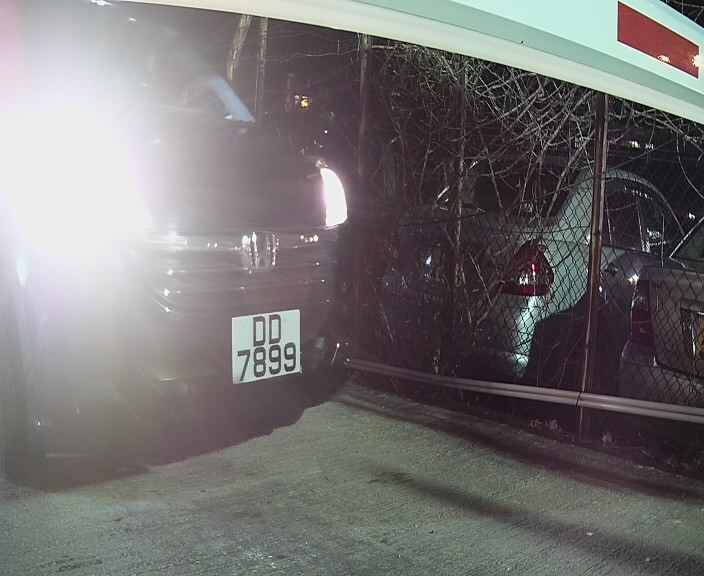License Plate: (220, 300, 309, 392)
